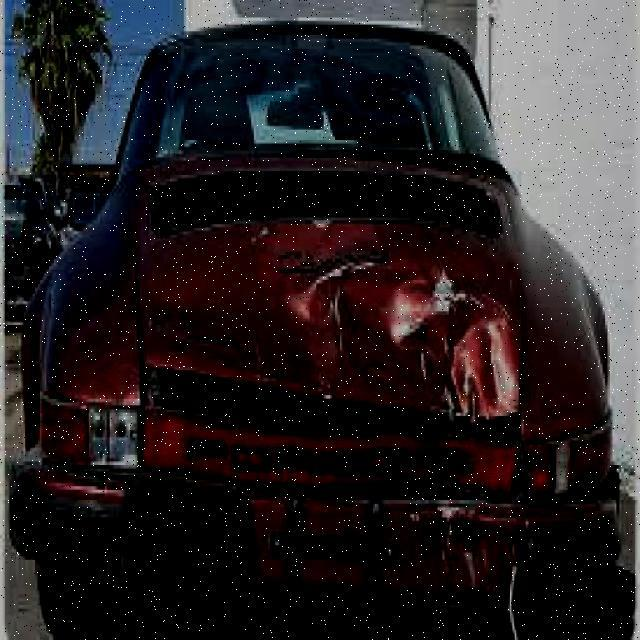car damage: (149, 255, 531, 621)
